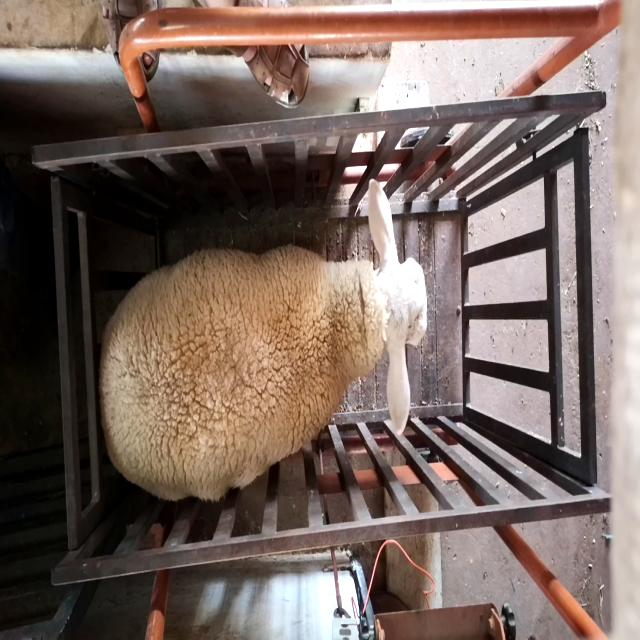sheep: (98, 176, 428, 501)
